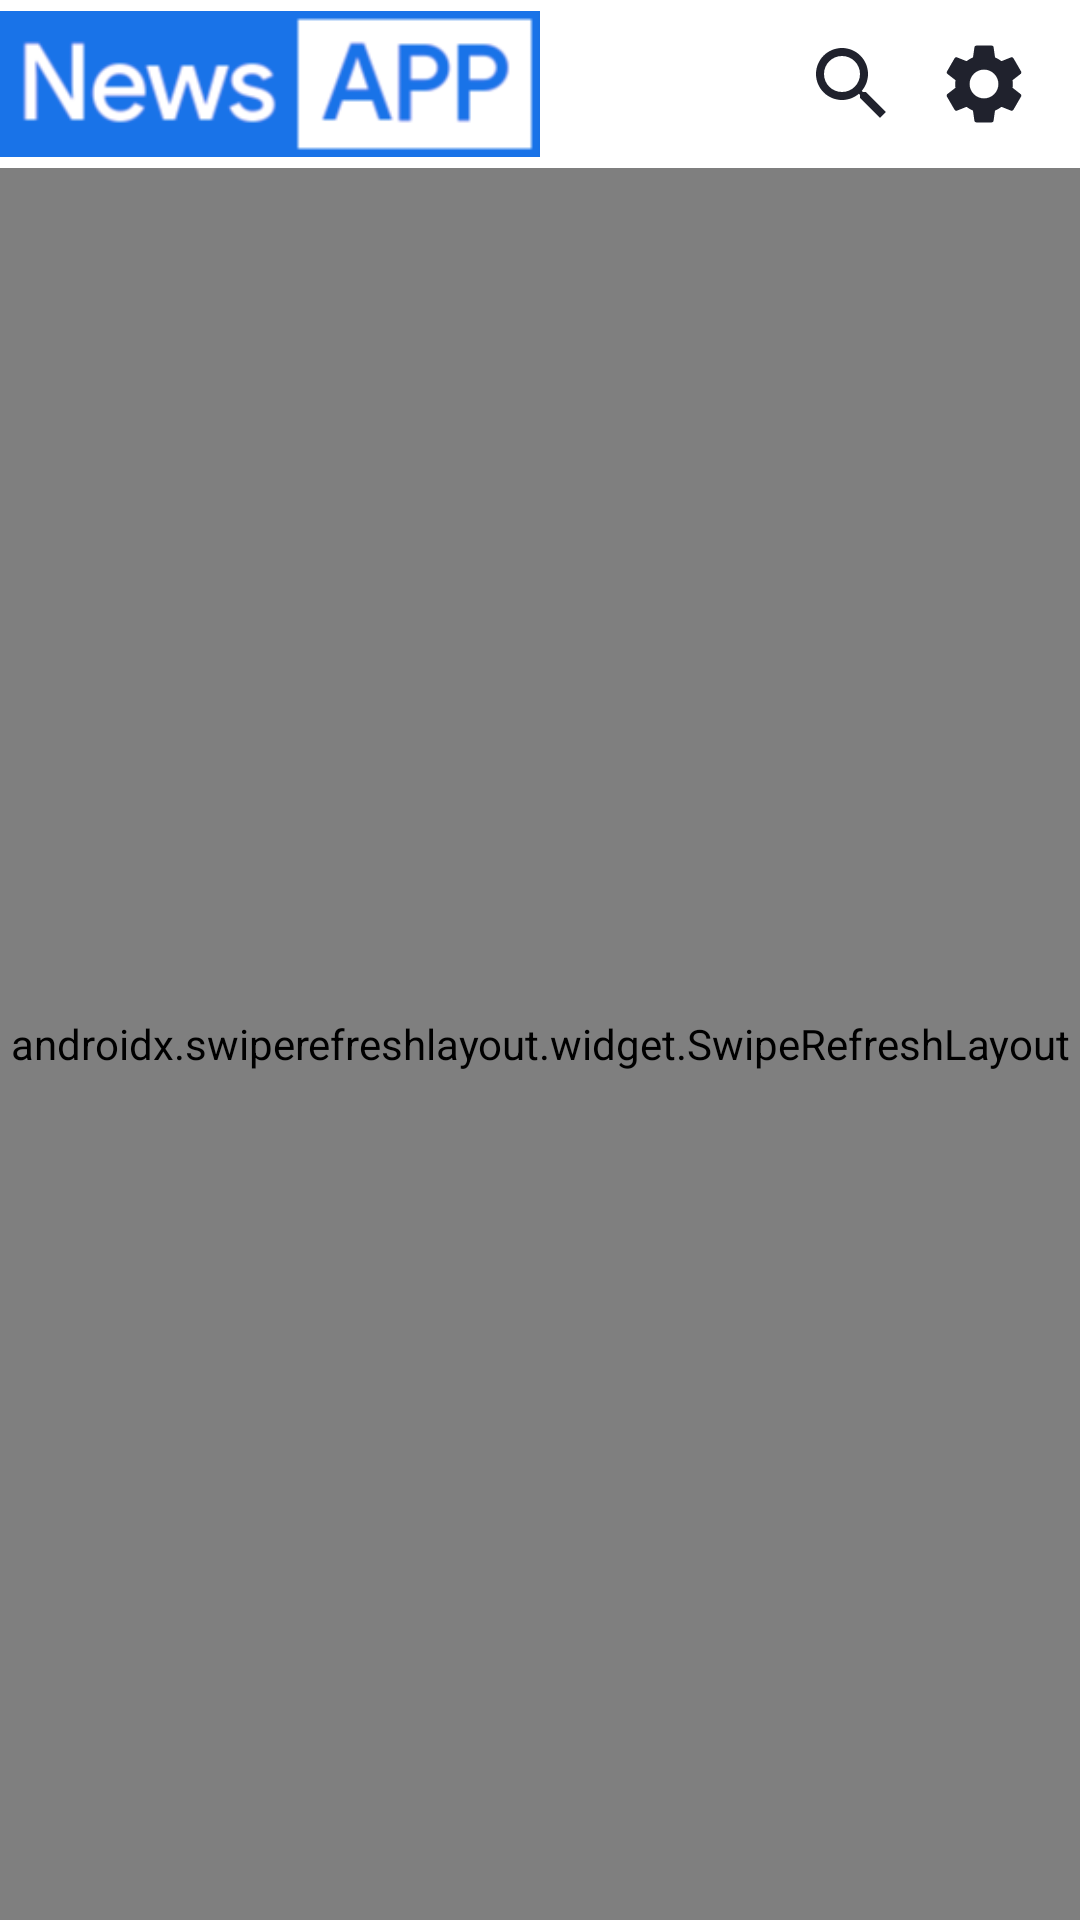

Screen size 1080x1920. Icon name, then its box in pixels as detection(x1, y1, x2, y2):
search: detection(816, 48, 886, 118)
settings: detection(946, 45, 1022, 123)
